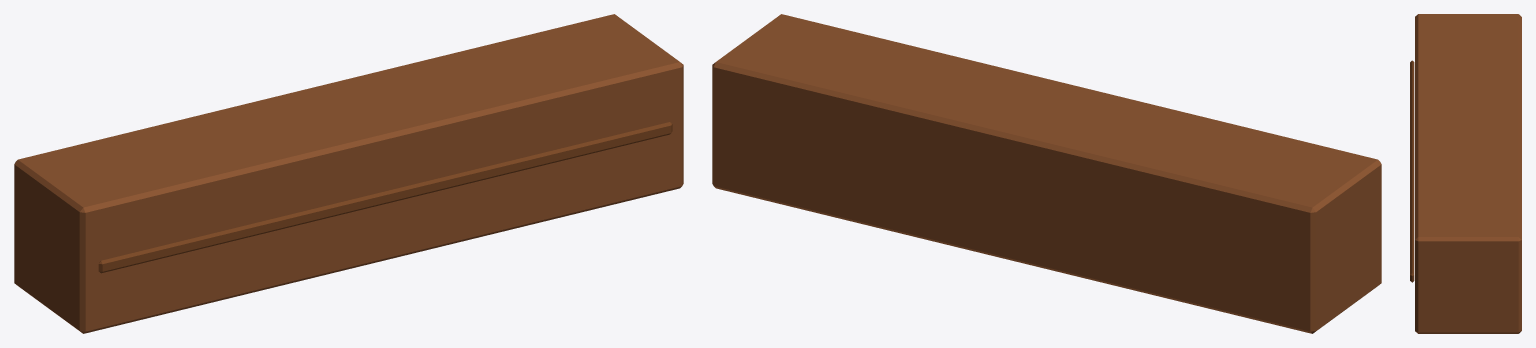
Rendered from edge_beam.glb.
3 views of the same model, side by side, from view 1: azimuth 30°, elevation 25°; view 2: azimuth 150°, elevation 25°; view 3: azimuth 270°, elevation 25° (orthographic). The views are drawn at different scales.
Parts seen in each view (by area): view 1: edge_beam__body__oak, edge_beam__body__grain; view 2: edge_beam__body__oak; view 3: edge_beam__body__oak, edge_beam__body__grain.
Boxes of the visible parts, left/top/right/bottom form: edge_beam__body__oak: left=14, top=14, right=683, bottom=333; edge_beam__body__grain: left=98, top=122, right=672, bottom=273; edge_beam__body__oak: left=712, top=14, right=1381, bottom=333; edge_beam__body__oak: left=1415, top=14, right=1521, bottom=333; edge_beam__body__grain: left=1410, top=60, right=1414, bottom=282.
Size of the model in its own units: 1 by 0.2 by 0.209.
